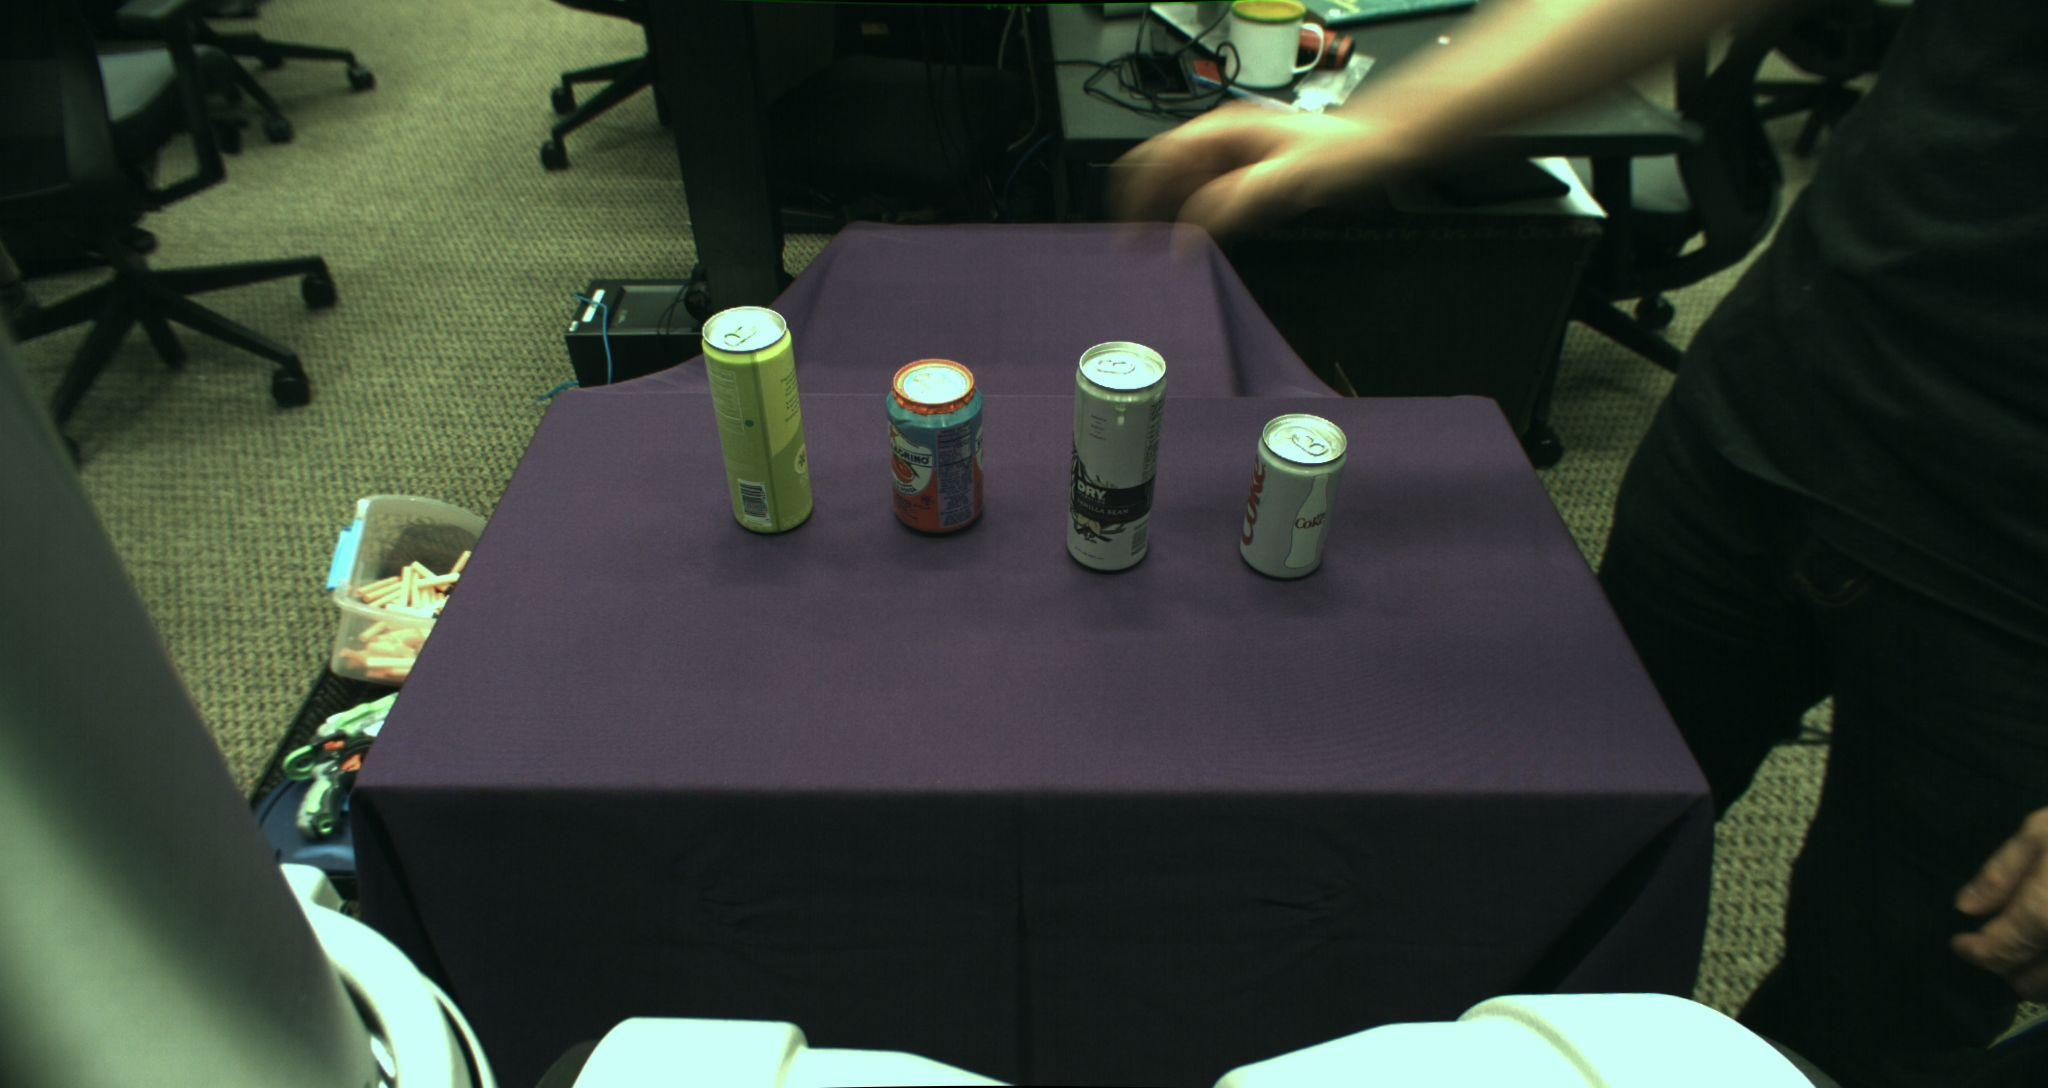can_diet_coke_small: (1239, 412, 1348, 581)
can_dry_sparkling_vanilla_bean: (1065, 341, 1168, 570)
can_izze_fusions_lemon_lime: (702, 304, 815, 534)
can_sanpellegrino_blood_orange: (886, 358, 983, 534)
